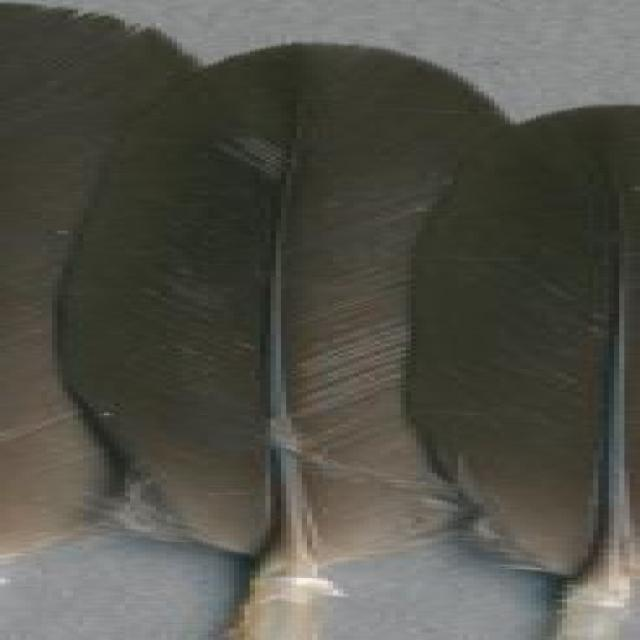feather: (47, 39, 531, 640), (406, 102, 640, 640)
